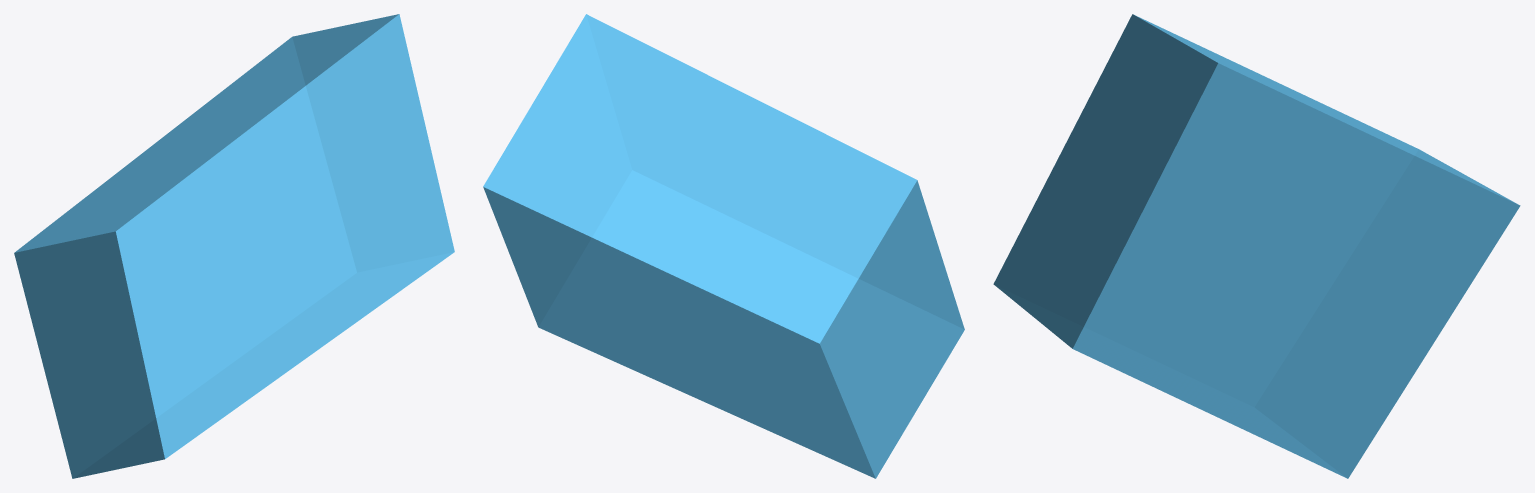
File: Event_420094457_HErechit_65.fbx
3 renders of one model, left to right at view 1: azimuth 30°, elevation 25°; view 2: azimuth 150°, elevation 25°; view 3: azimuth 270°, elevation 25°, orthographic. The views are drawn at different scales.
Parts seen in each view (by area): view 1: Model; view 2: Model; view 3: Model.
Part boxes in pixels (left/top/right/bottom): Model: left=14, top=14, right=454, bottom=478; Model: left=483, top=14, right=964, bottom=478; Model: left=993, top=14, right=1520, bottom=478.
Size of the model in its own units: 0.6152 by 0.7354 by 0.627.
